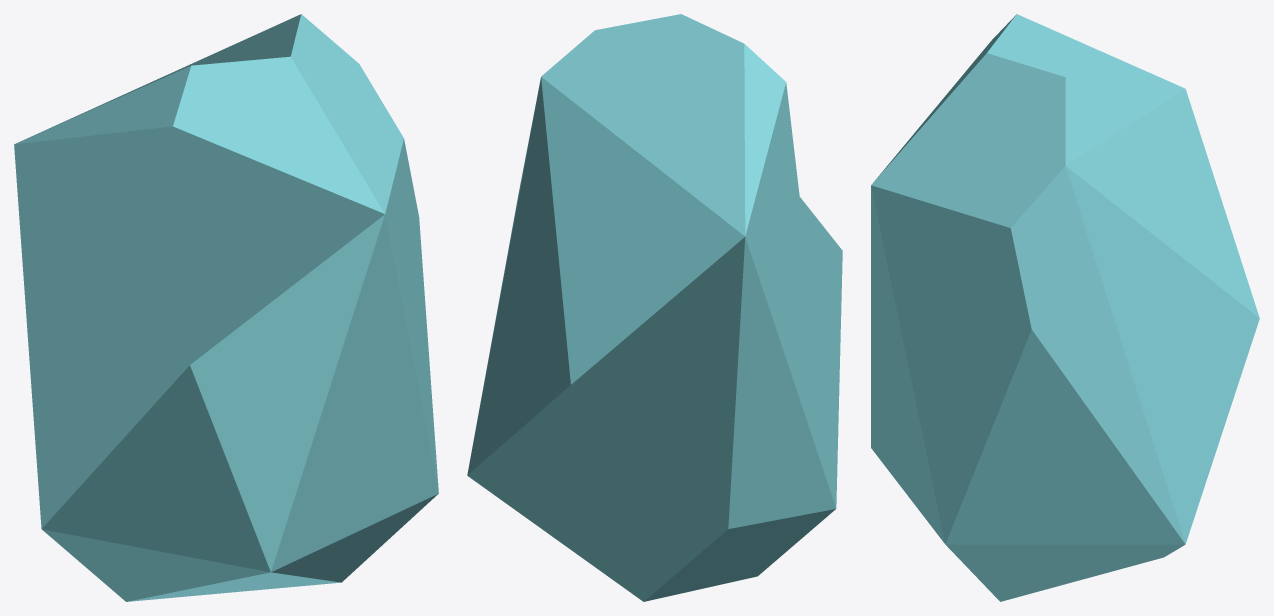
Rendered from Roca.fbx.
The picture shows the model from 3 angles, left to right: view 1: azimuth 30°, elevation 25°; view 2: azimuth 150°, elevation 25°; view 3: azimuth 270°, elevation 25°; orthographic projection. The views are drawn at different scales.
Visible parts, largest first — view 1: Roca; view 2: Roca; view 3: Roca.
Boxes of the visible parts, x1,y1,x2,y2 form: Roca: (14, 14, 438, 601); Roca: (467, 14, 842, 601); Roca: (871, 14, 1259, 601).
Bounding box in the file's own units: 174 × 255 × 170.
